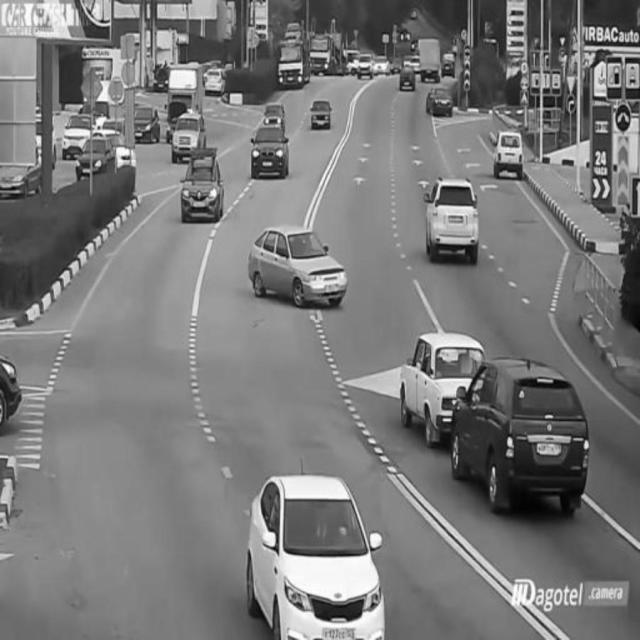vehicle: (237, 469, 384, 639), (456, 357, 590, 523), (251, 219, 345, 311), (399, 330, 467, 438), (423, 178, 485, 264), (179, 156, 226, 227), (248, 125, 290, 181), (0, 349, 27, 433), (169, 110, 207, 165), (275, 34, 309, 92), (62, 105, 94, 161), (491, 129, 526, 179), (308, 23, 338, 77), (126, 101, 161, 147), (75, 136, 109, 178), (414, 32, 444, 78), (426, 80, 456, 120), (307, 98, 337, 135), (203, 62, 225, 97), (396, 63, 418, 98), (352, 50, 376, 80)
